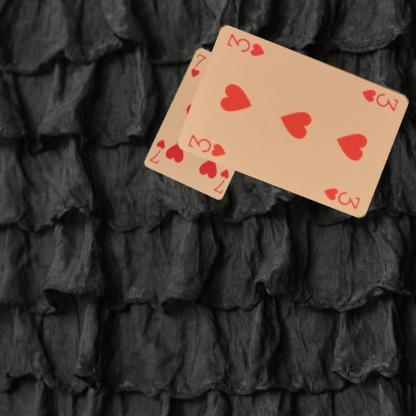3h: (186, 132, 228, 158), (360, 86, 400, 113)
7h: (211, 166, 230, 195), (188, 51, 207, 78)
